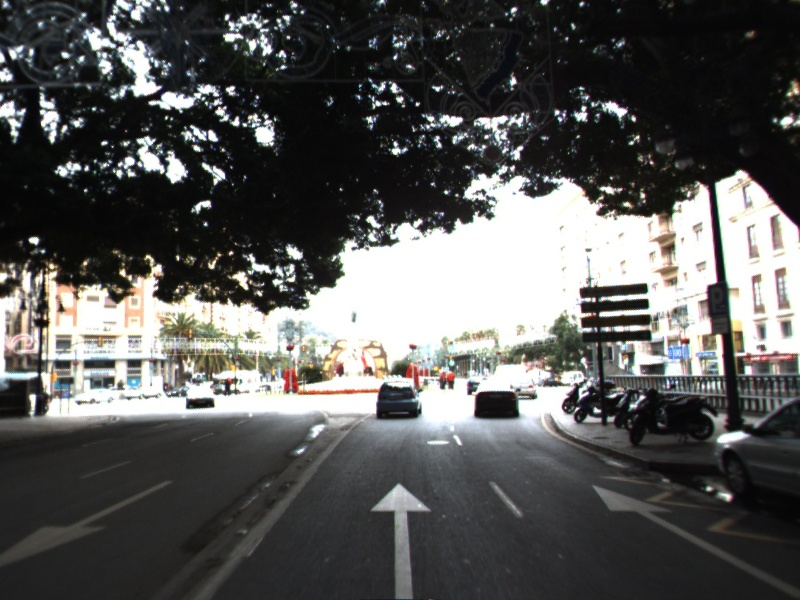STRAIGHT: (589, 482, 800, 596), (368, 478, 436, 600)
